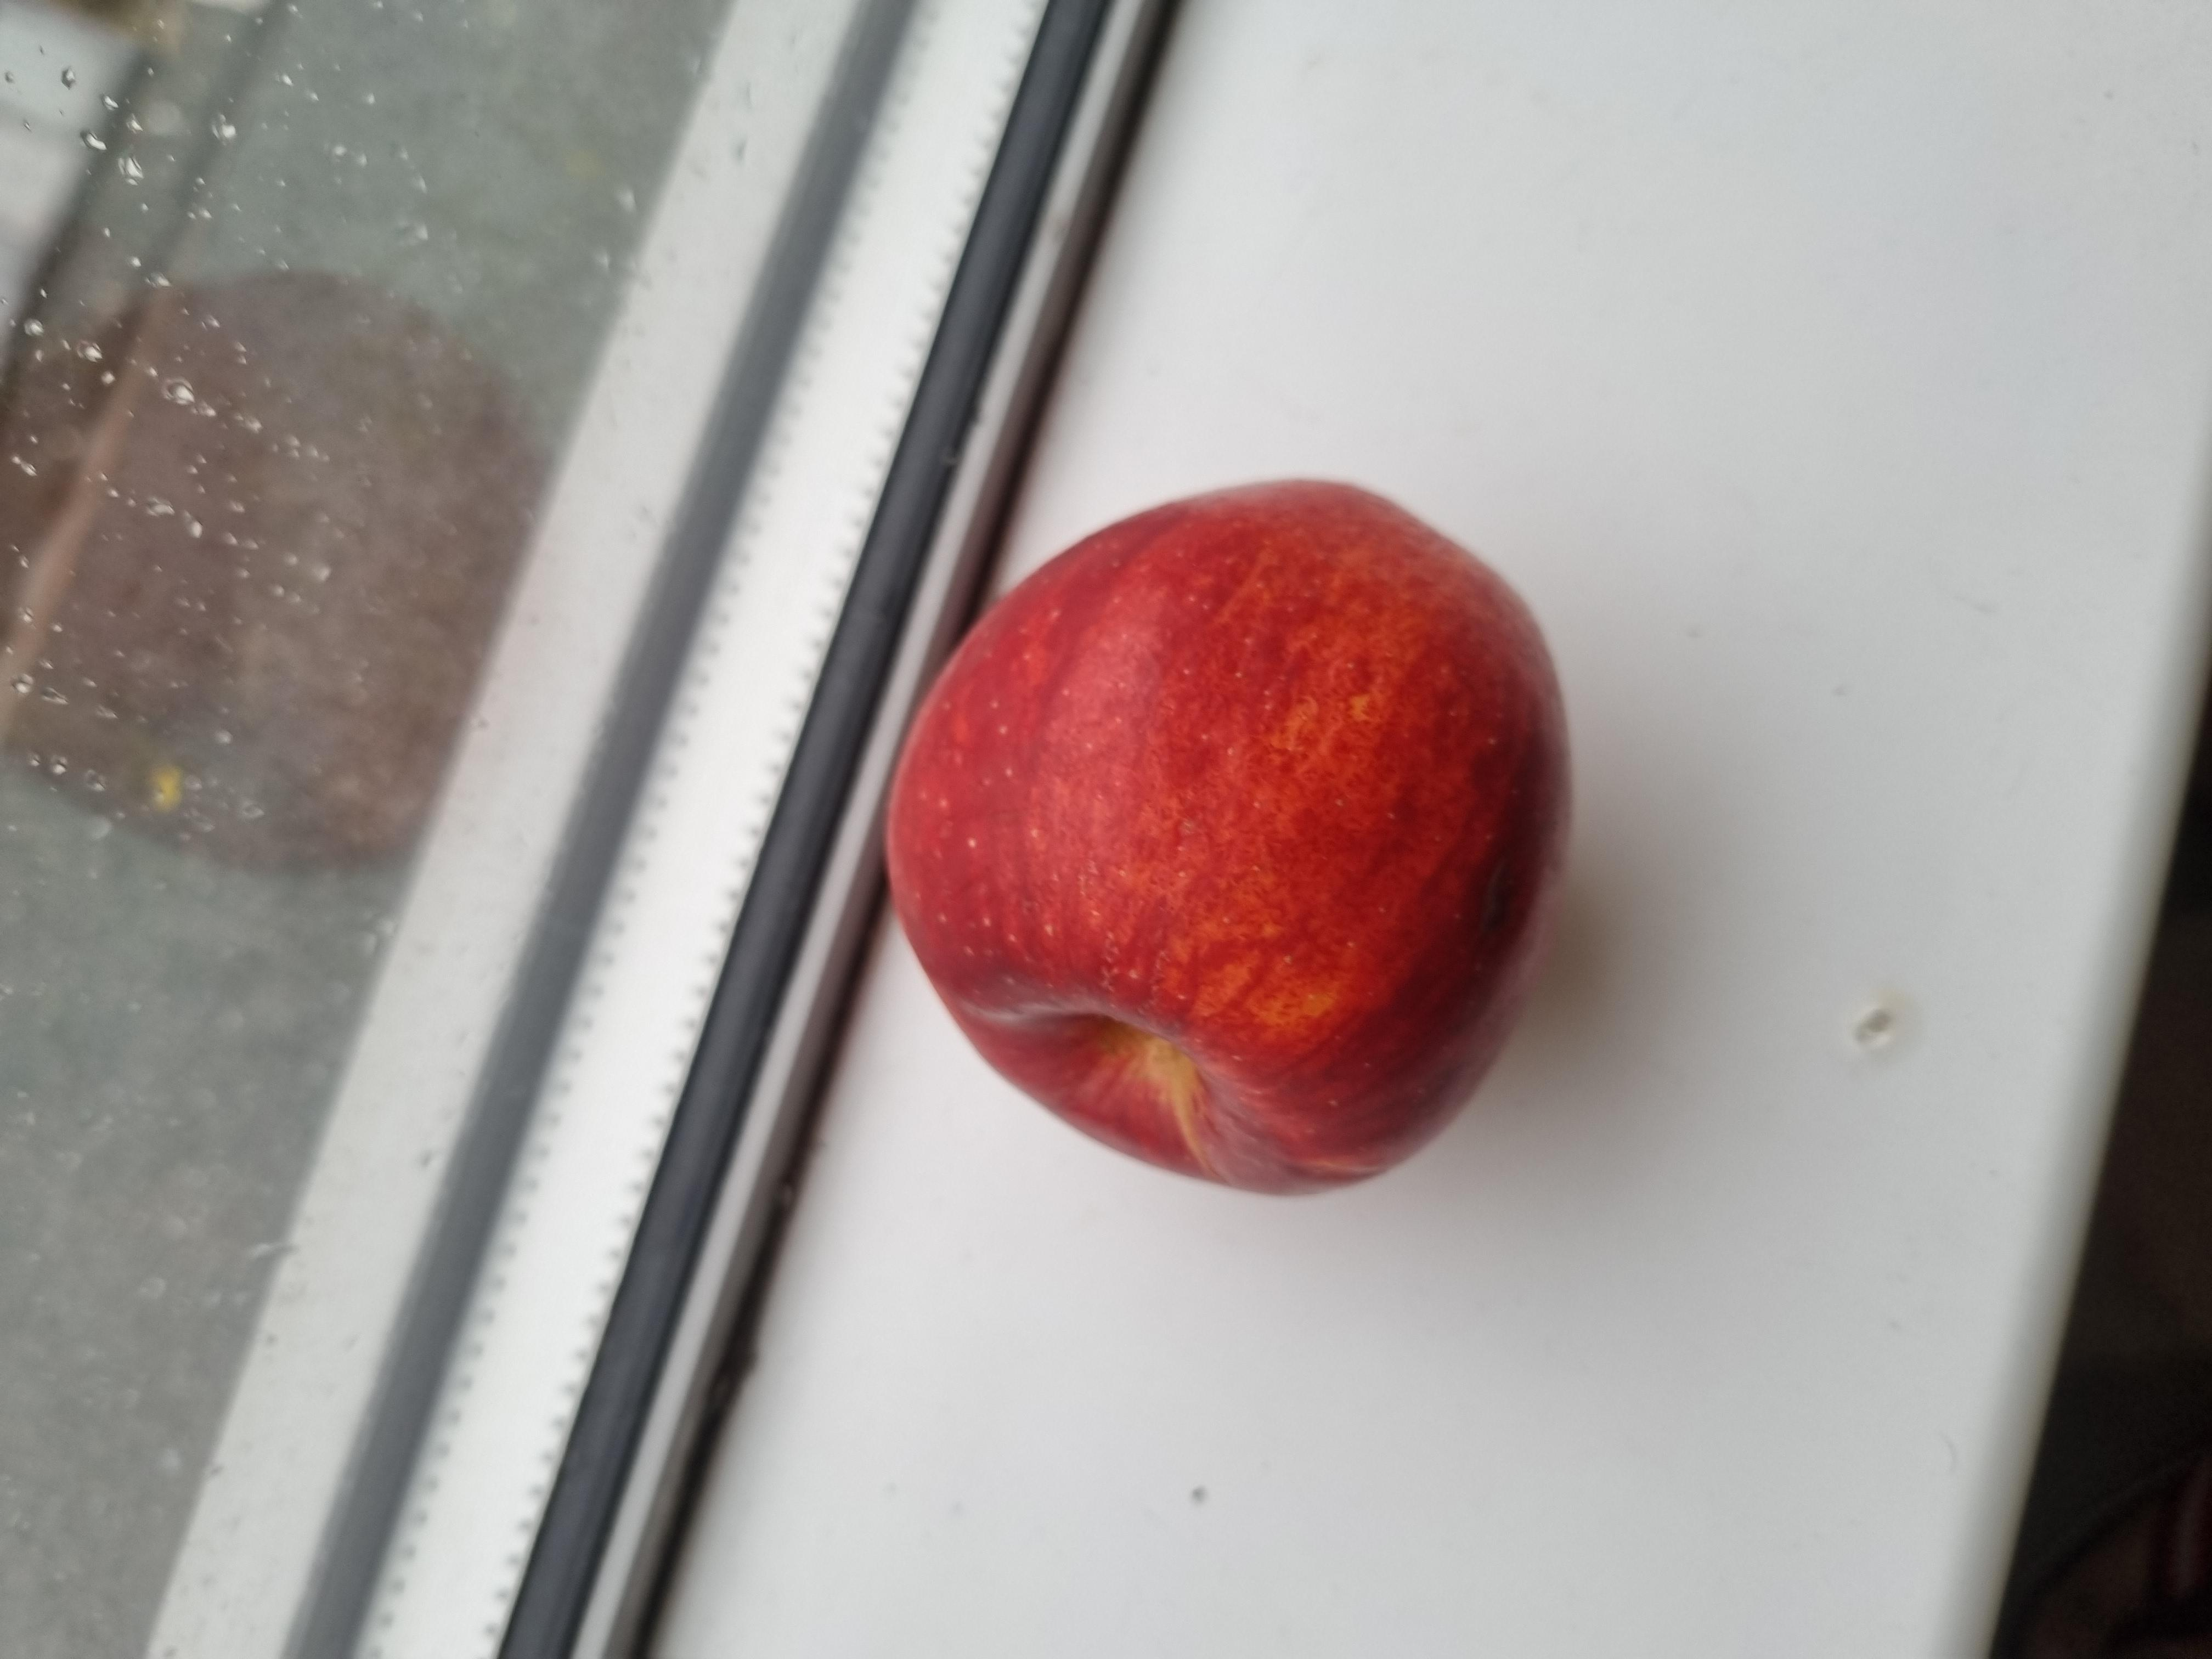Apple: (601, 437, 1357, 1206)
